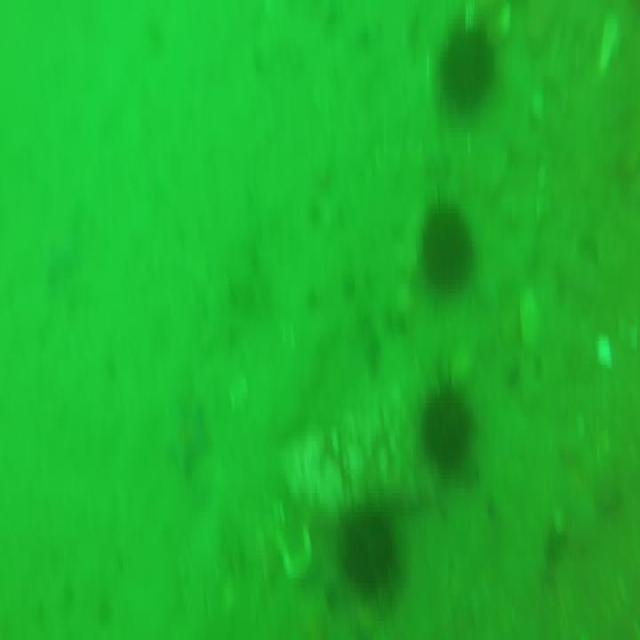echinus: (433, 19, 493, 111), (418, 200, 476, 290), (427, 381, 471, 471), (342, 514, 391, 592)
starfish: (163, 396, 210, 478)
